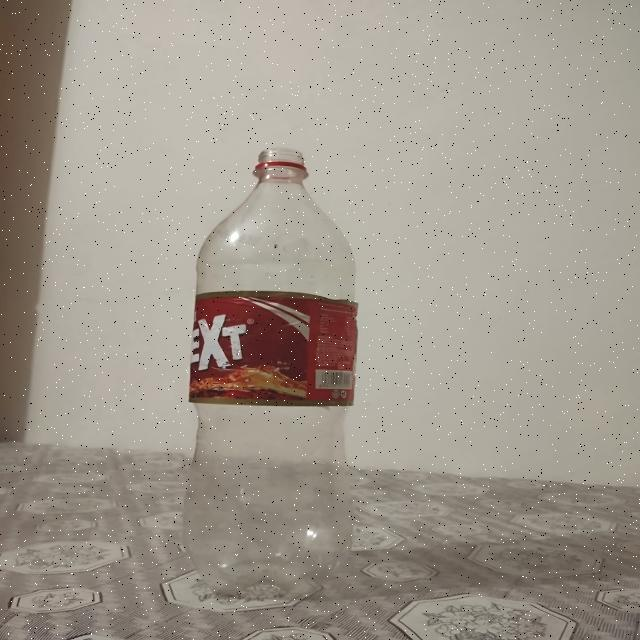bottle: (180, 148, 357, 598)
label: (190, 288, 362, 404)
